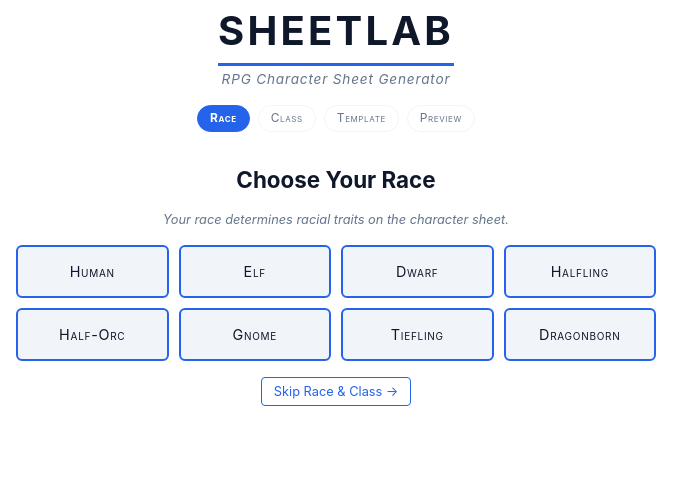
Test: Wizard › back button on class step returns to race
The width and height of the screenshot is (673, 486).
Click the button "Human" at (92, 272), box left=16, top=245, right=168, bottom=298
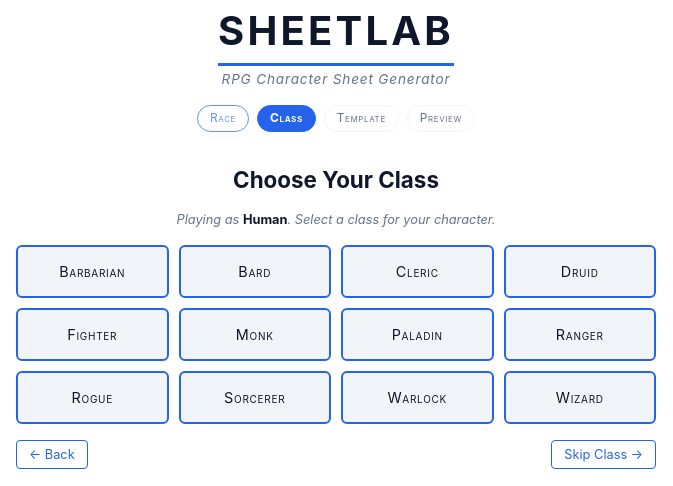
Click the button "← Back" at (52, 455), box left=16, top=440, right=88, bottom=469
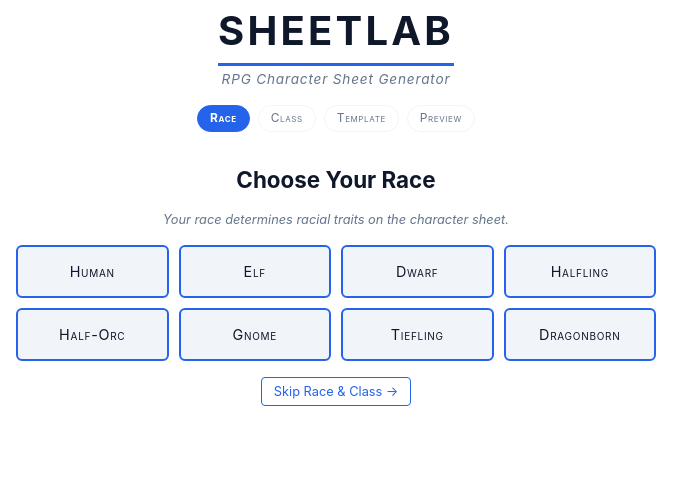
Result: the heading "Choose Your Race" is shown at left=236, top=166, right=436, bottom=193
